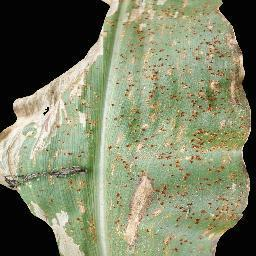Corn_Common_Rust: (0, 0, 256, 256), (0, 128, 10, 132)
